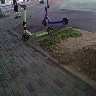beam: (36, 1, 69, 26)
gcooter: (18, 4, 55, 42)
